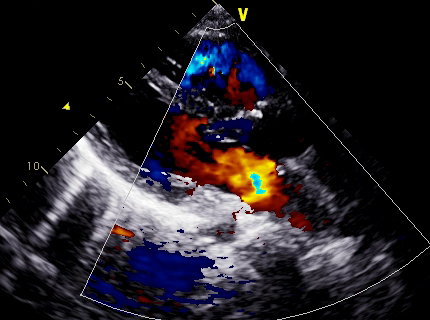AR: (169, 110, 238, 159)
